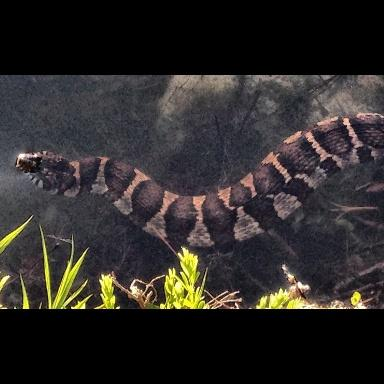snake: (16, 116, 384, 255)
